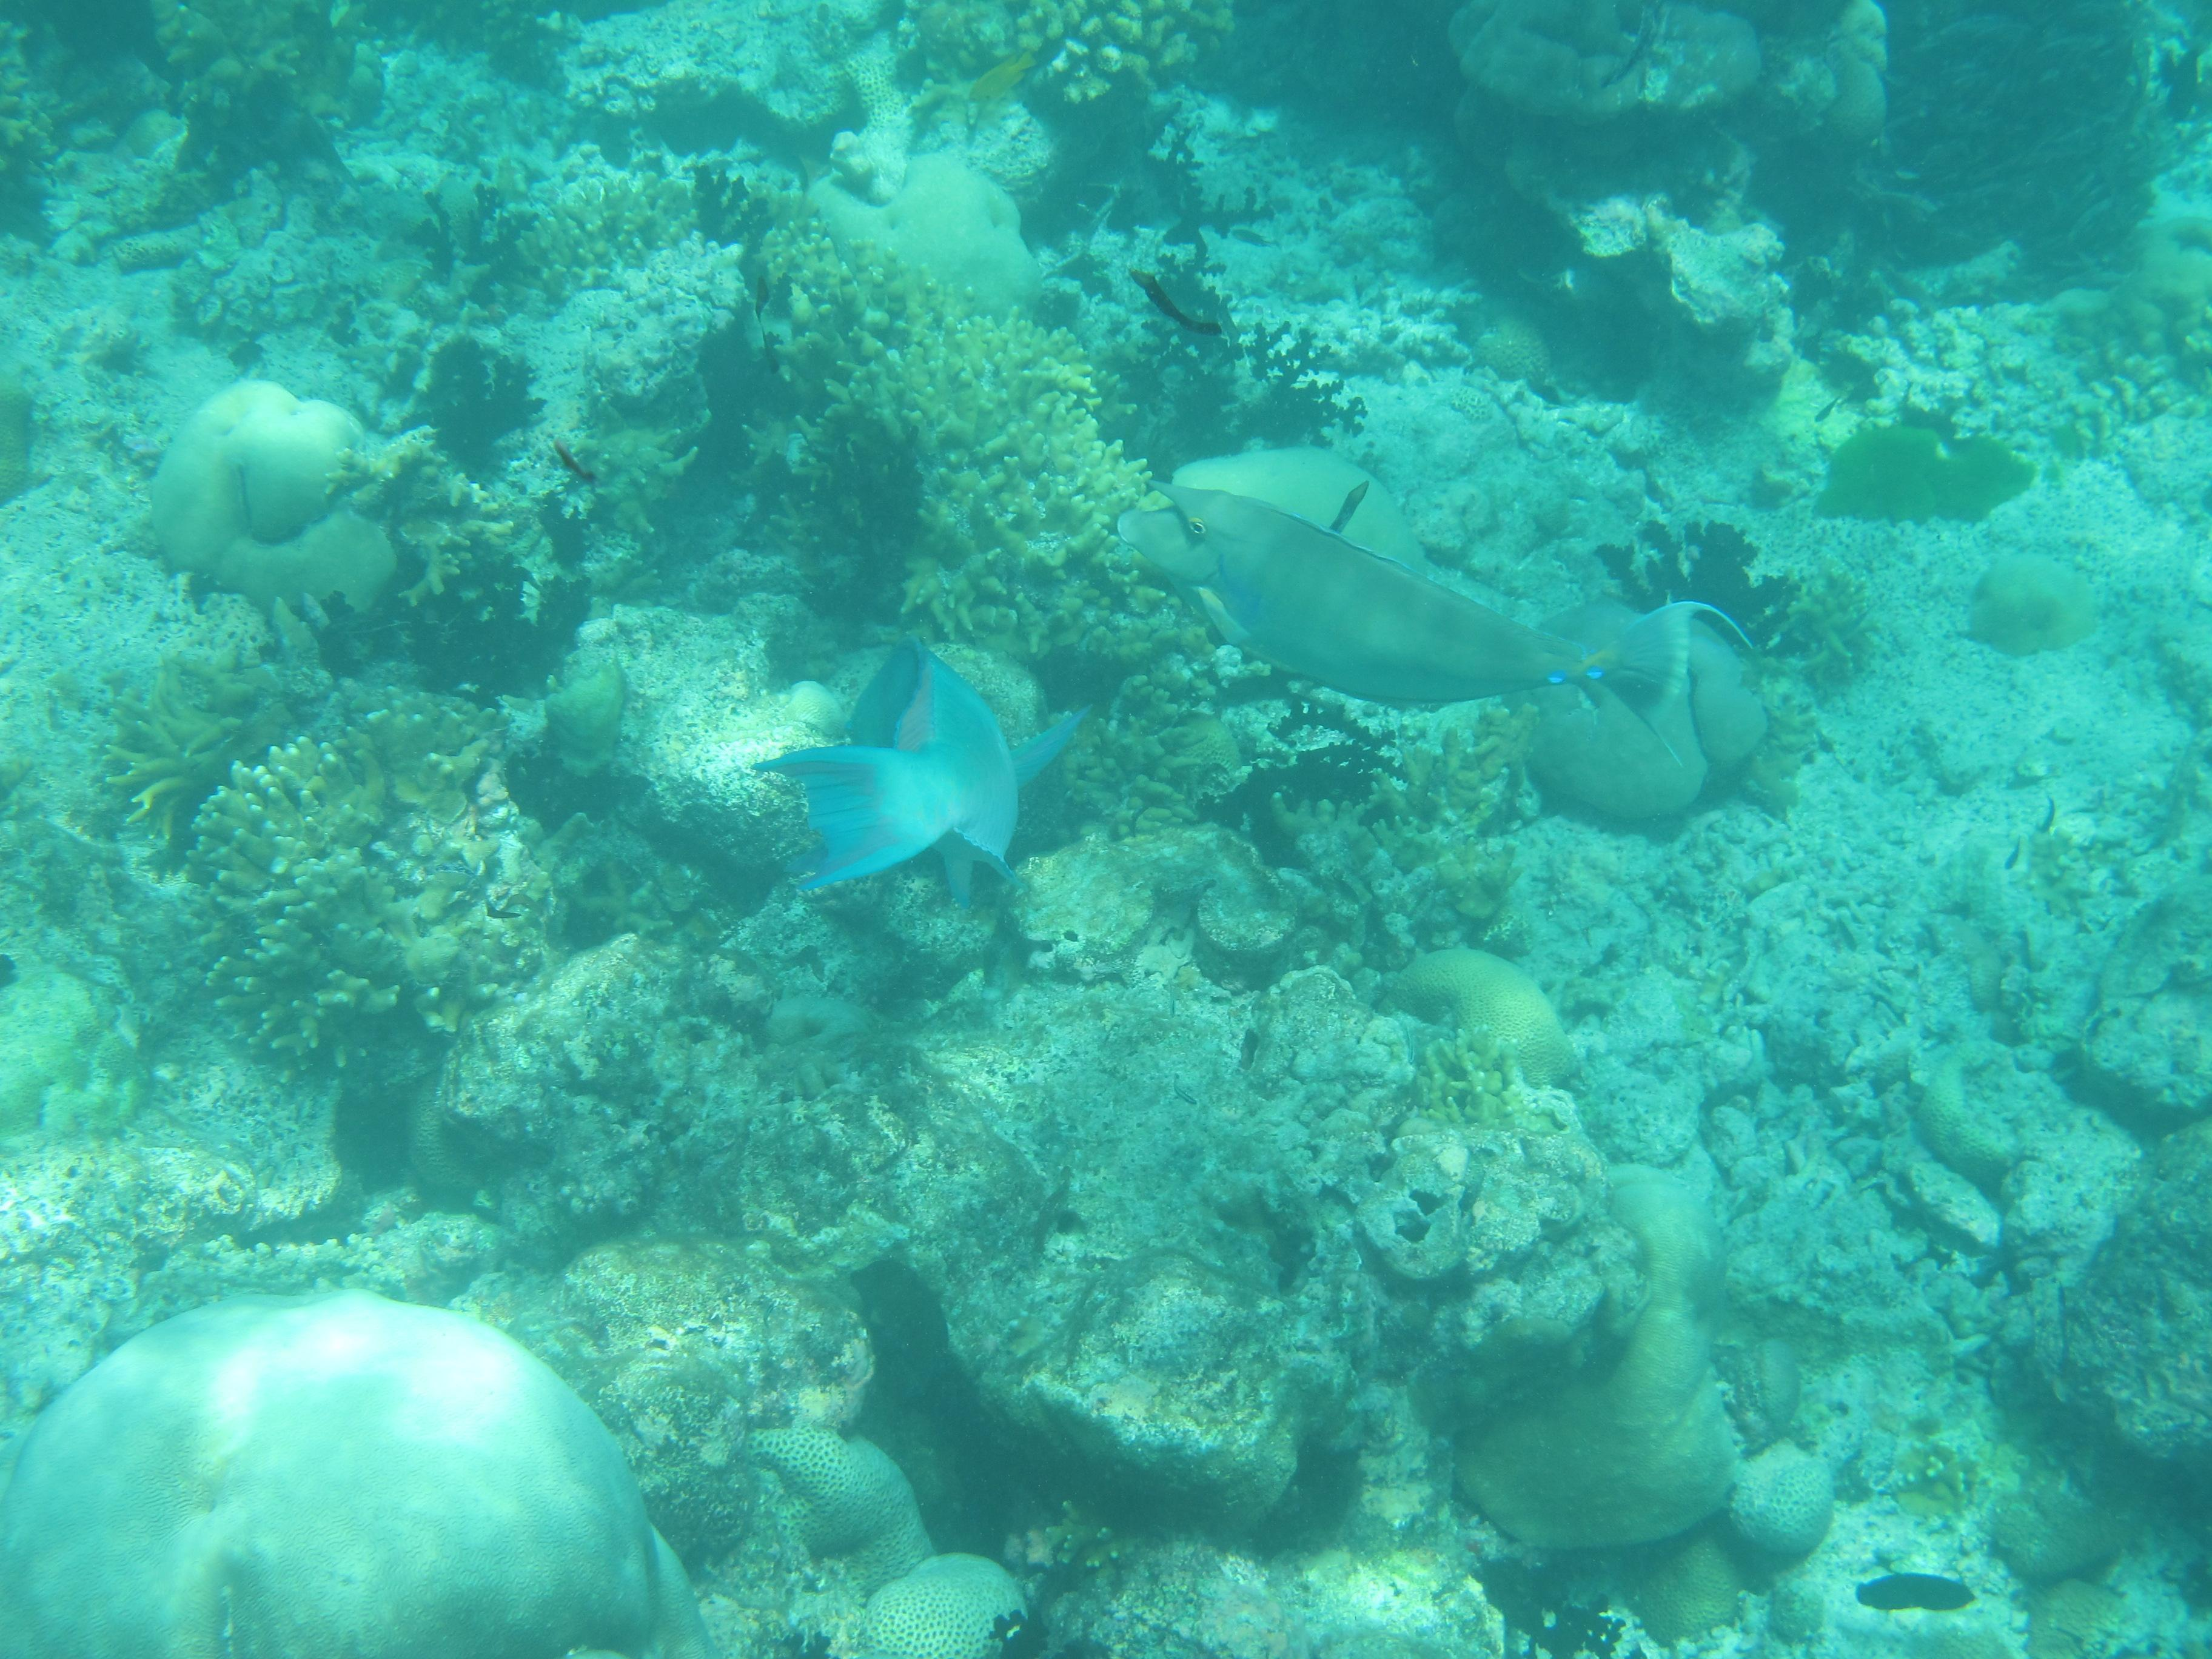Naso unicornis: (1092, 446, 1778, 798)
